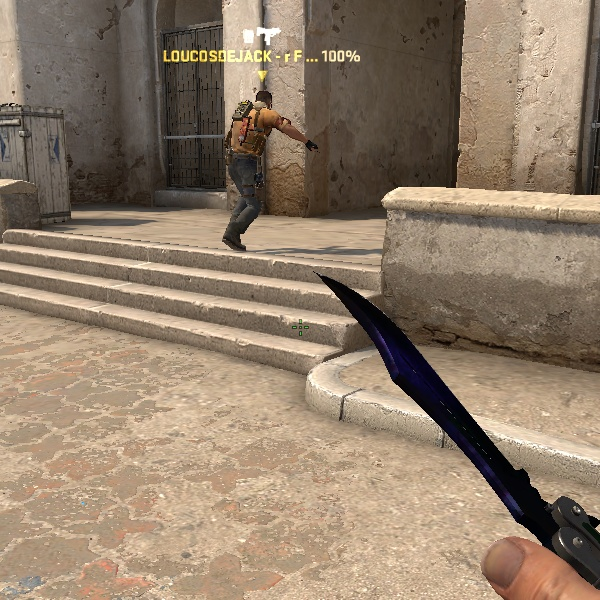t_body: (219, 78, 302, 256)
t_head: (251, 84, 284, 116)
